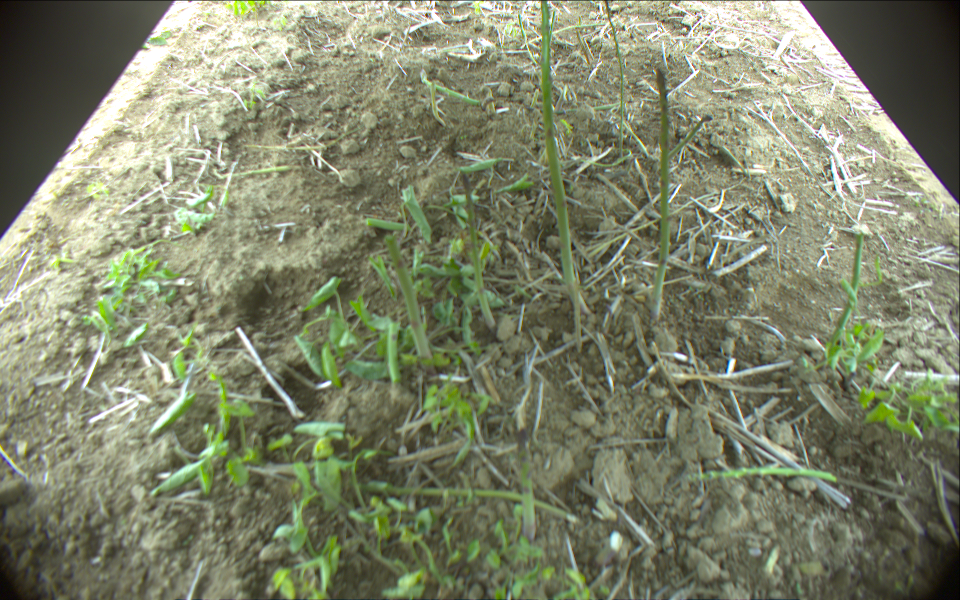aspa: (539, 1, 590, 314), (357, 482, 578, 524), (645, 71, 671, 319), (385, 236, 434, 363), (459, 171, 494, 331), (601, 1, 625, 162), (692, 467, 836, 485), (517, 426, 538, 542), (420, 72, 483, 106), (212, 161, 313, 179), (385, 319, 401, 380), (429, 82, 446, 126)
